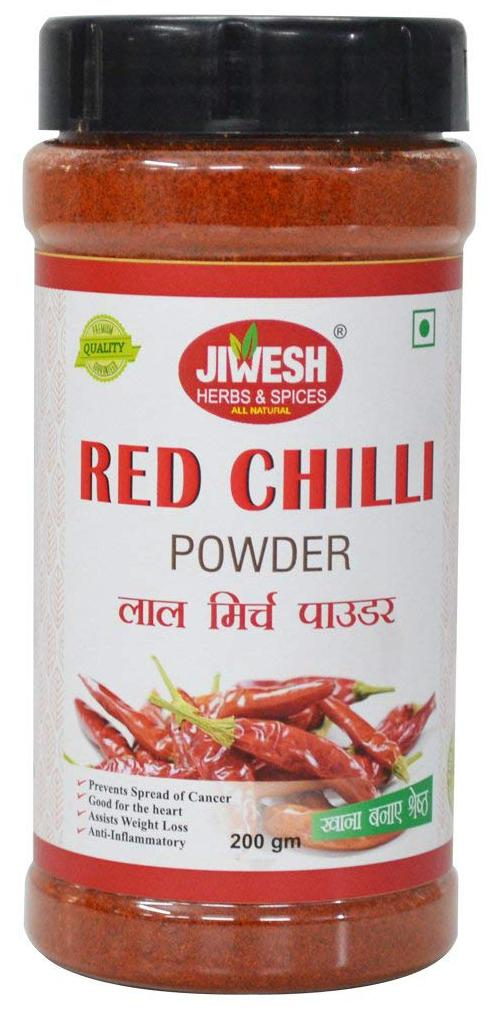JAR: (19, 10, 481, 1003)
